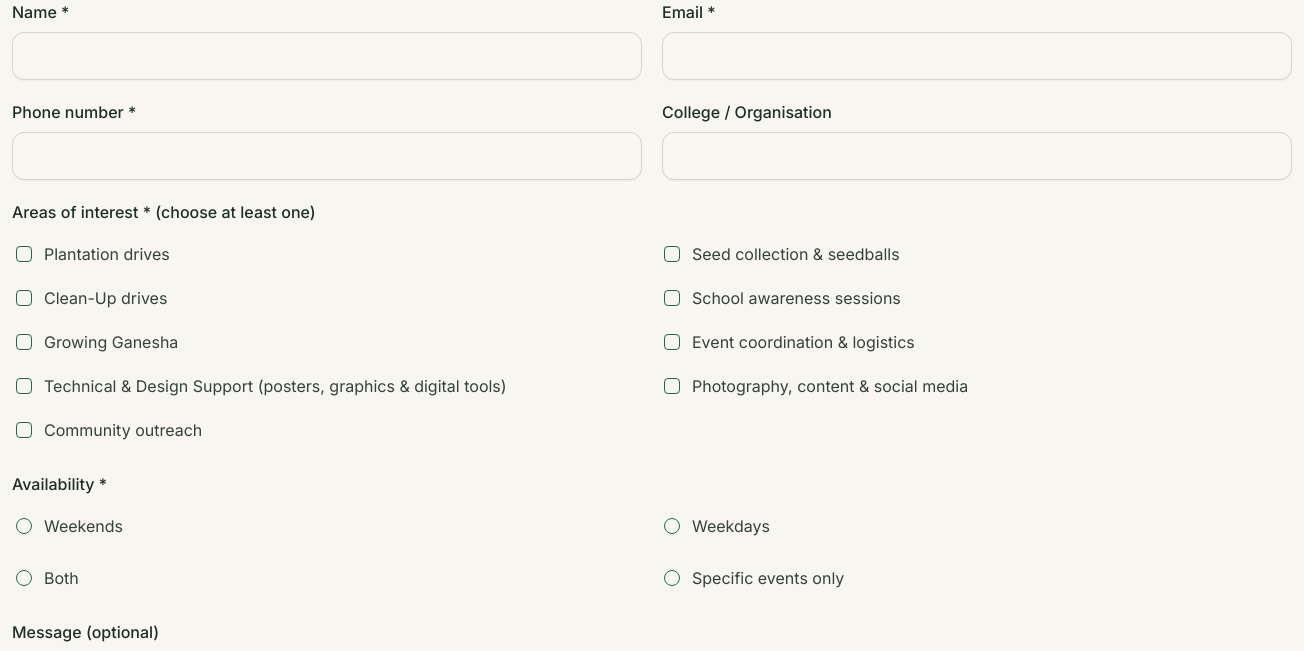
Test: volunteer form › rejects a bad phone number
The image size is (1304, 651).
Type "Asha Rao" into the field labelled "Name *".
click(327, 56); type("Asha Rao")  # box [12, 32, 642, 80]
Type "asha@example.com" into the field labelled "Email *".
click(977, 56); type("asha@example.com")  # box [662, 32, 1292, 80]
Type "+91 98765 43210" into the field labelled "Phone number *".
click(327, 156); type("+91 98765 43210")  # box [12, 132, 642, 180]
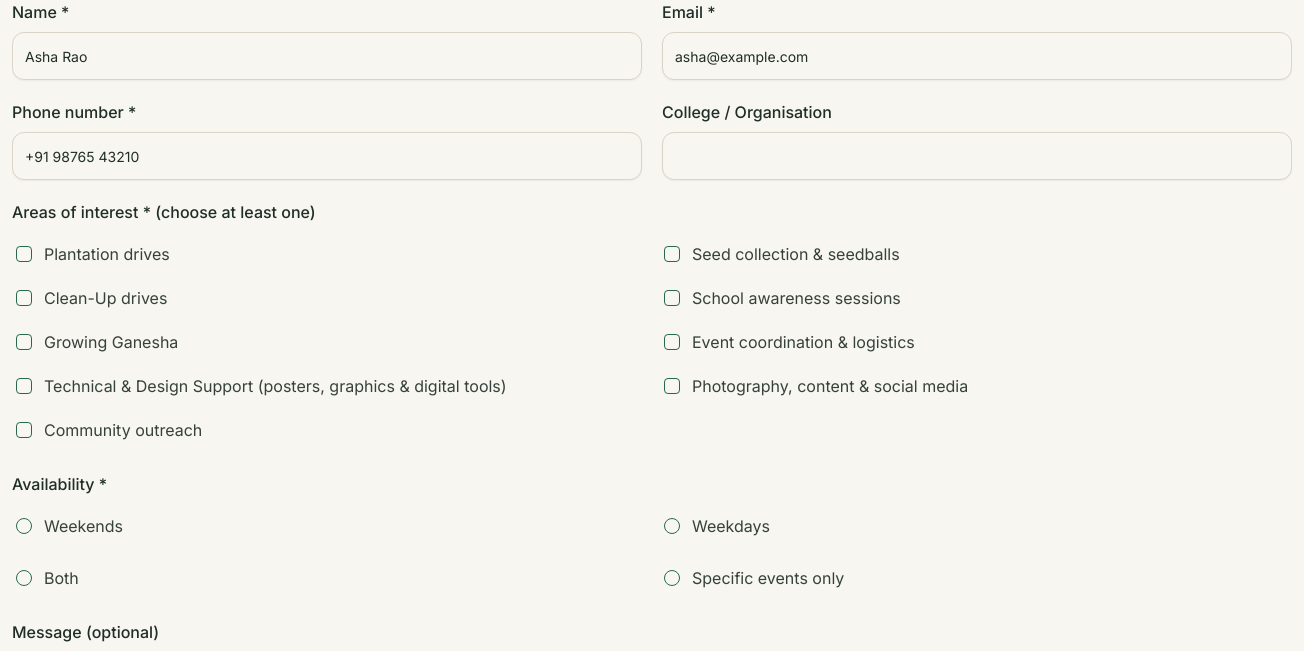
Click the checkbox named "Plantation drives" next to "Plantation drives".
click(24, 254)  # box [16, 246, 32, 262]
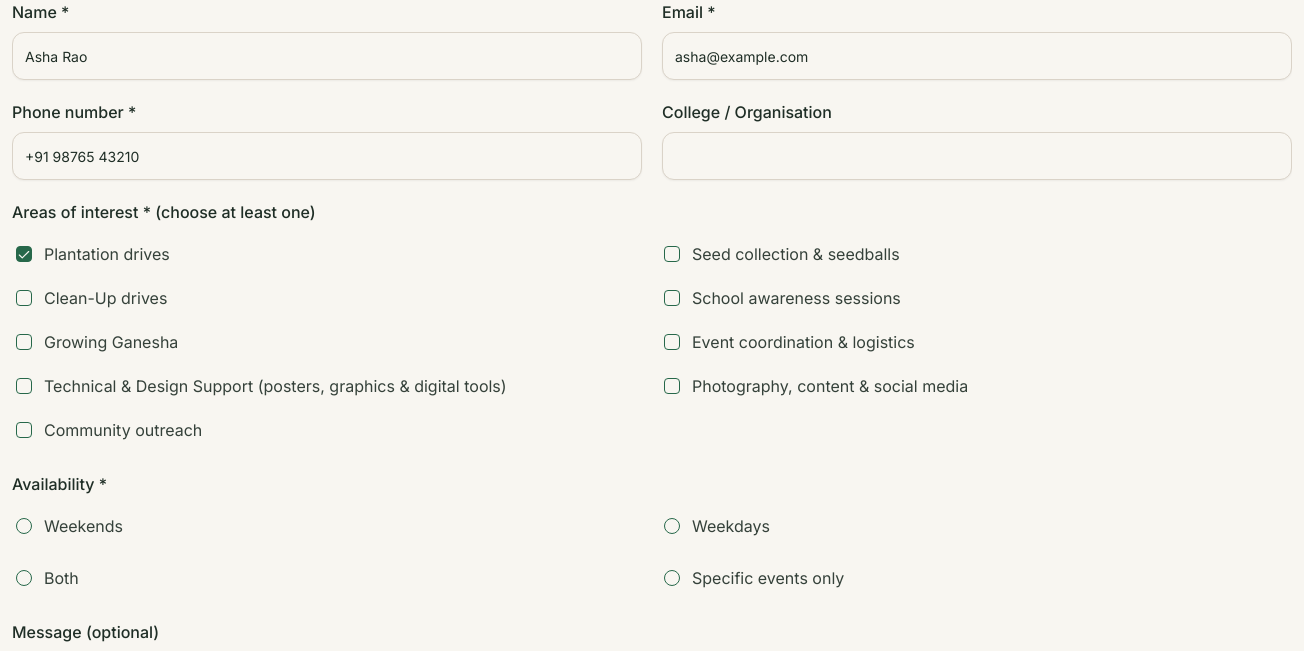
Click the radio button named "Weekends" next to "Weekends".
click(24, 526)  # box [16, 518, 32, 534]
(page scrolled)
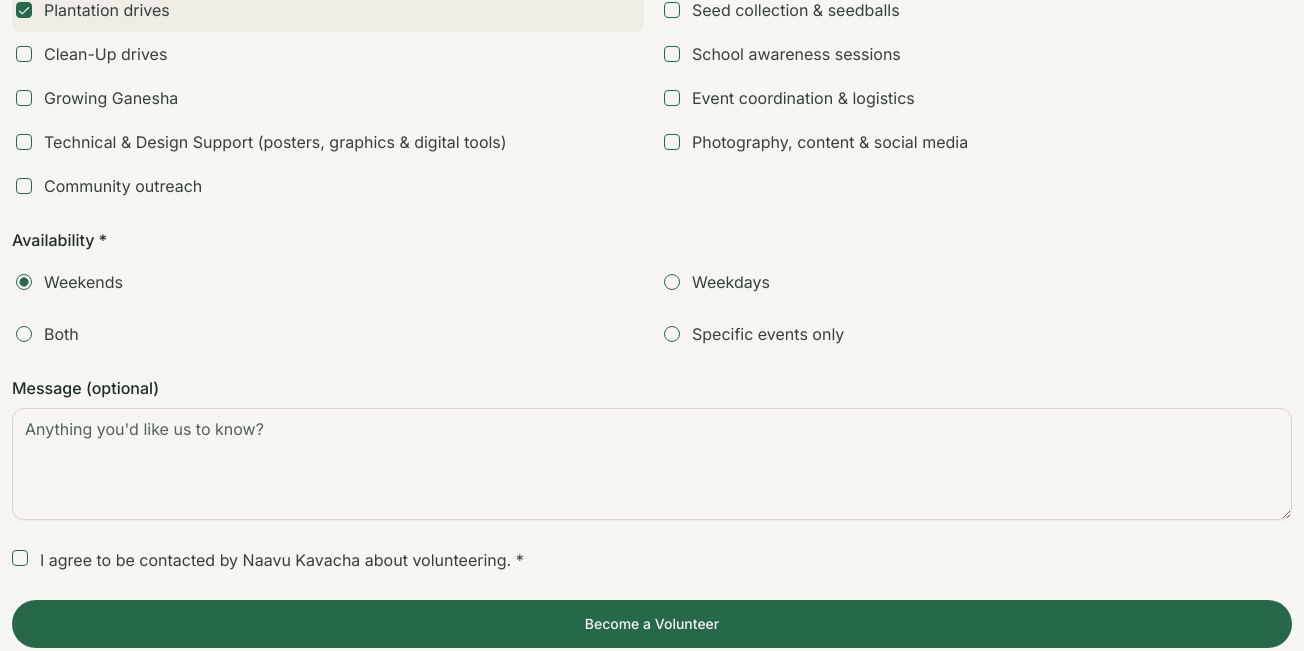
Click the 10th checkbox named "agree to be contacted".
click(20, 558)  # box [12, 550, 28, 566]
(page scrolled)
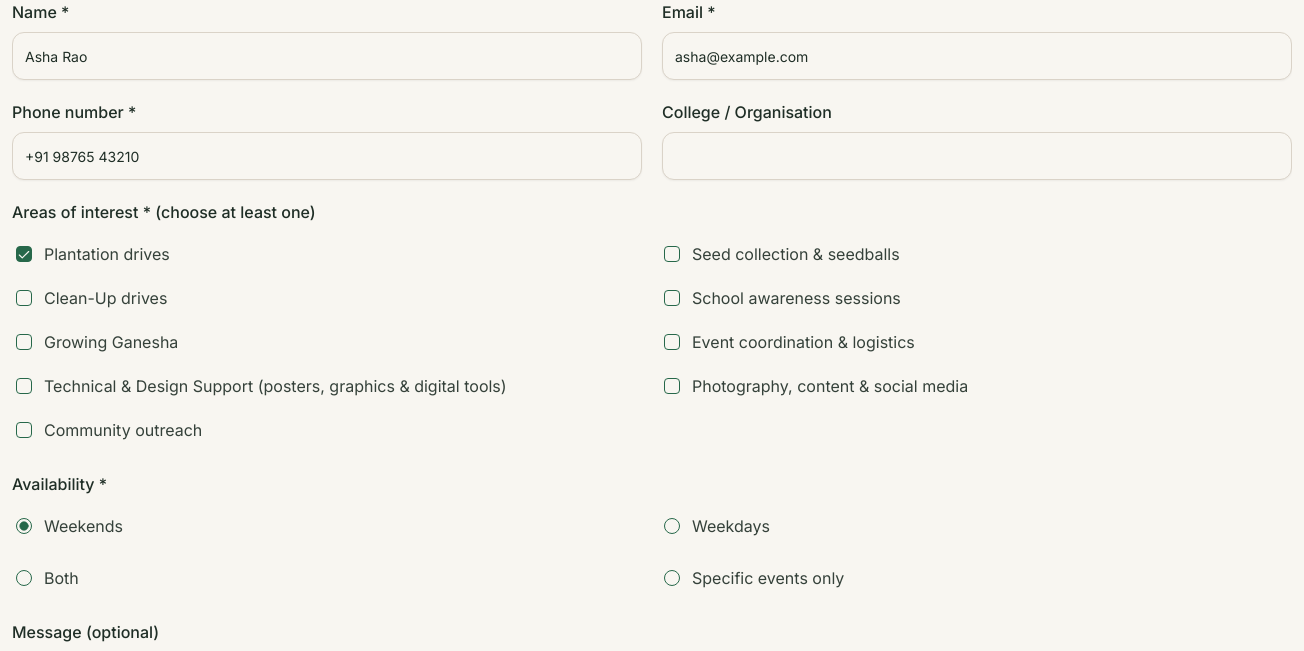
Replace the text in the field labelled "Phone number *" with "12345" at [327, 156], box [12, 132, 642, 180]
(page scrolled)
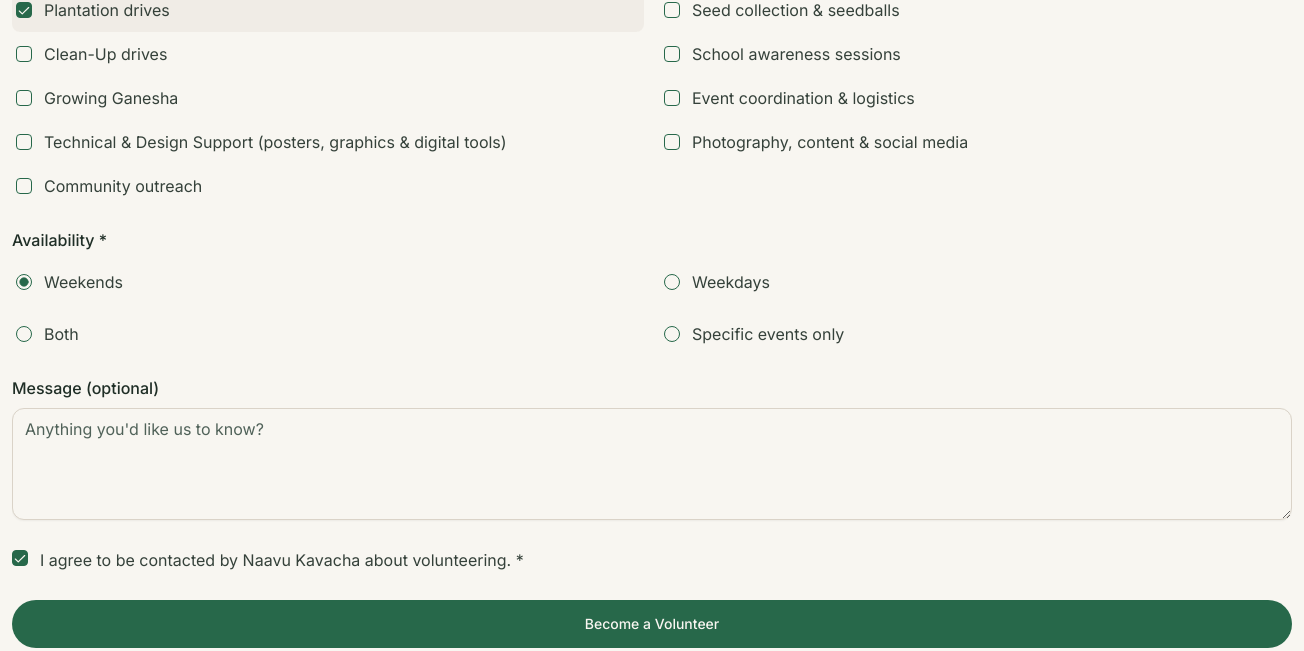
Click the button "Become a Volunteer".
click(652, 624)  # box [12, 600, 1292, 648]
(page scrolled)
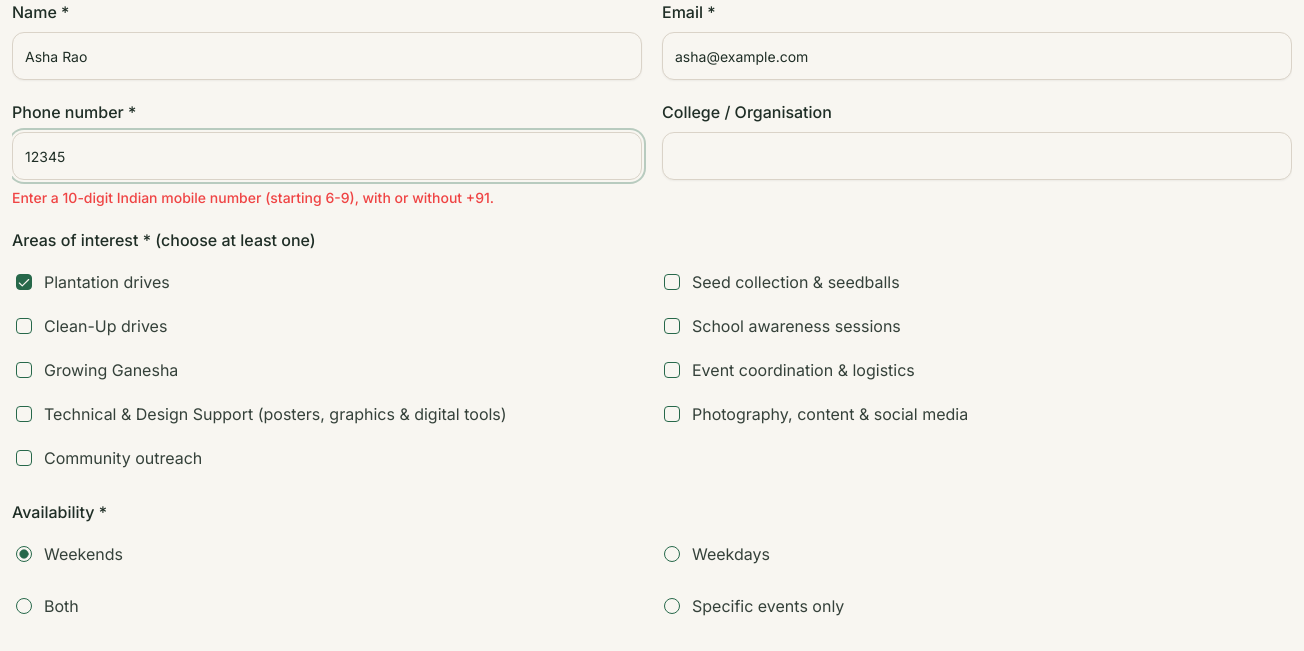
Result: the text "10-digit Indian mobile" is shown at [12, 189, 494, 206]
